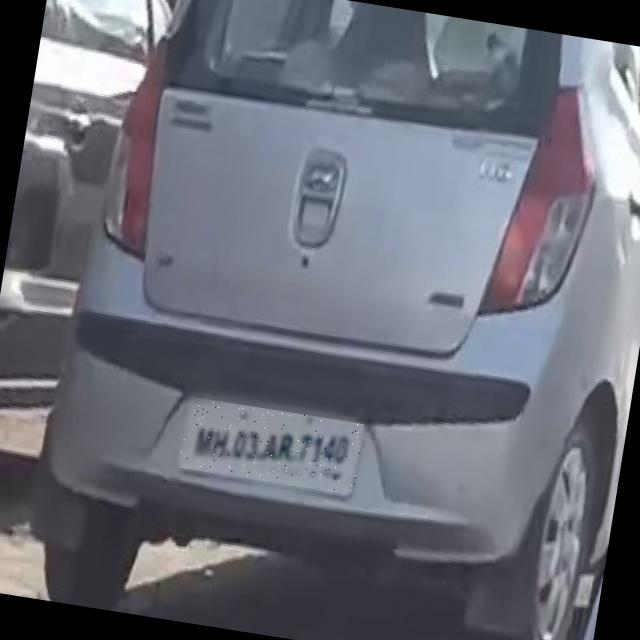Plate: (179, 398, 366, 495)
